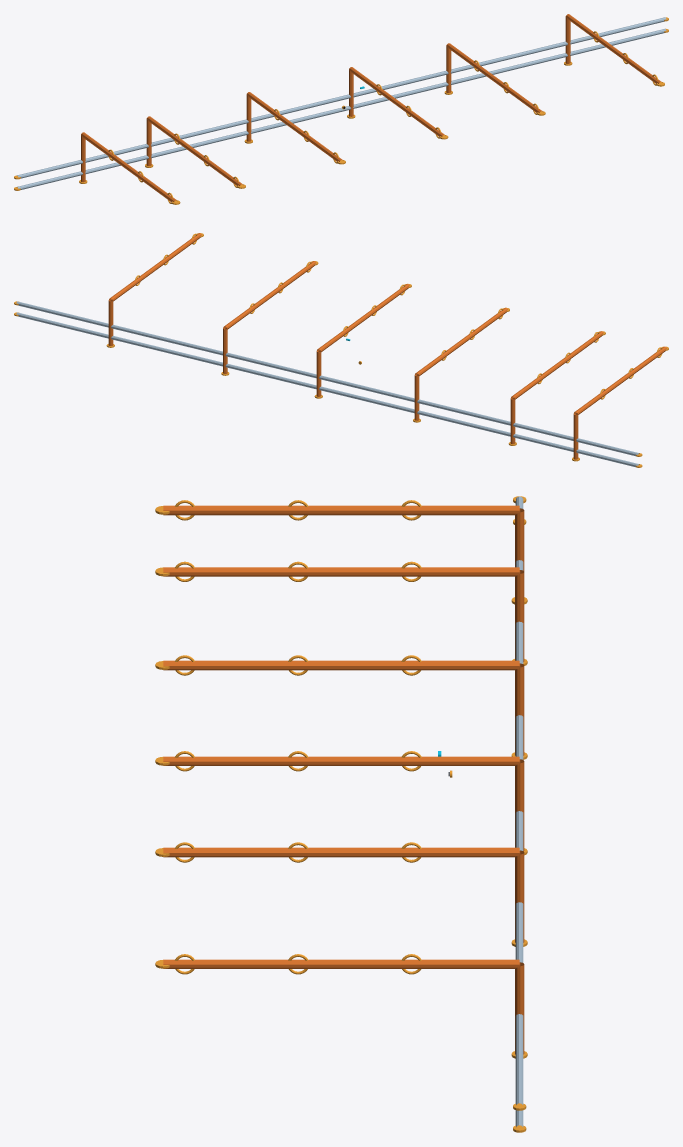
File: 11_L88_ProcessGasOverheadPipeNetwork.fbx
3 views of the same model, one above another, from view 1: azimuth 30°, elevation 25°; view 2: azimuth 150°, elevation 25°; view 3: azimuth 270°, elevation 25° (orthographic). The views are drawn at different scales.
Visible parts, largest first — view 1: L87_ProcessGasOverheadPipeNetwork_Part_0003, L87_ProcessGasOverheadPipeNetwork_Part_0000, L87_ProcessGasOverheadPipeNetwork_Part_0001, L87_ProcessGasOverheadPipeNetwork_Part_0002; view 2: L87_ProcessGasOverheadPipeNetwork_Part_0003, L87_ProcessGasOverheadPipeNetwork_Part_0000, L87_ProcessGasOverheadPipeNetwork_Part_0001; view 3: L87_ProcessGasOverheadPipeNetwork_Part_0000, L87_ProcessGasOverheadPipeNetwork_Part_0003, L87_ProcessGasOverheadPipeNetwork_Part_0001, L87_ProcessGasOverheadPipeNetwork_Part_0002.
Part boxes in pixels (box(x1,y1,x2,y2)): L87_ProcessGasOverheadPipeNetwork_Part_0003: box(16, 17, 666, 189); L87_ProcessGasOverheadPipeNetwork_Part_0000: box(81, 14, 662, 202); L87_ProcessGasOverheadPipeNetwork_Part_0001: box(79, 84, 448, 204); L87_ProcessGasOverheadPipeNetwork_Part_0002: box(14, 17, 668, 190); L87_ProcessGasOverheadPipeNetwork_Part_0003: box(16, 301, 639, 467); L87_ProcessGasOverheadPipeNetwork_Part_0000: box(108, 233, 666, 459); L87_ProcessGasOverheadPipeNetwork_Part_0001: box(314, 283, 668, 461); L87_ProcessGasOverheadPipeNetwork_Part_0000: box(163, 505, 524, 1054); L87_ProcessGasOverheadPipeNetwork_Part_0003: box(515, 496, 523, 1126); L87_ProcessGasOverheadPipeNetwork_Part_0001: box(155, 500, 527, 855); L87_ProcessGasOverheadPipeNetwork_Part_0002: box(155, 496, 527, 1132).
Size of the model in its own units: 2685 by 208 by 690.
